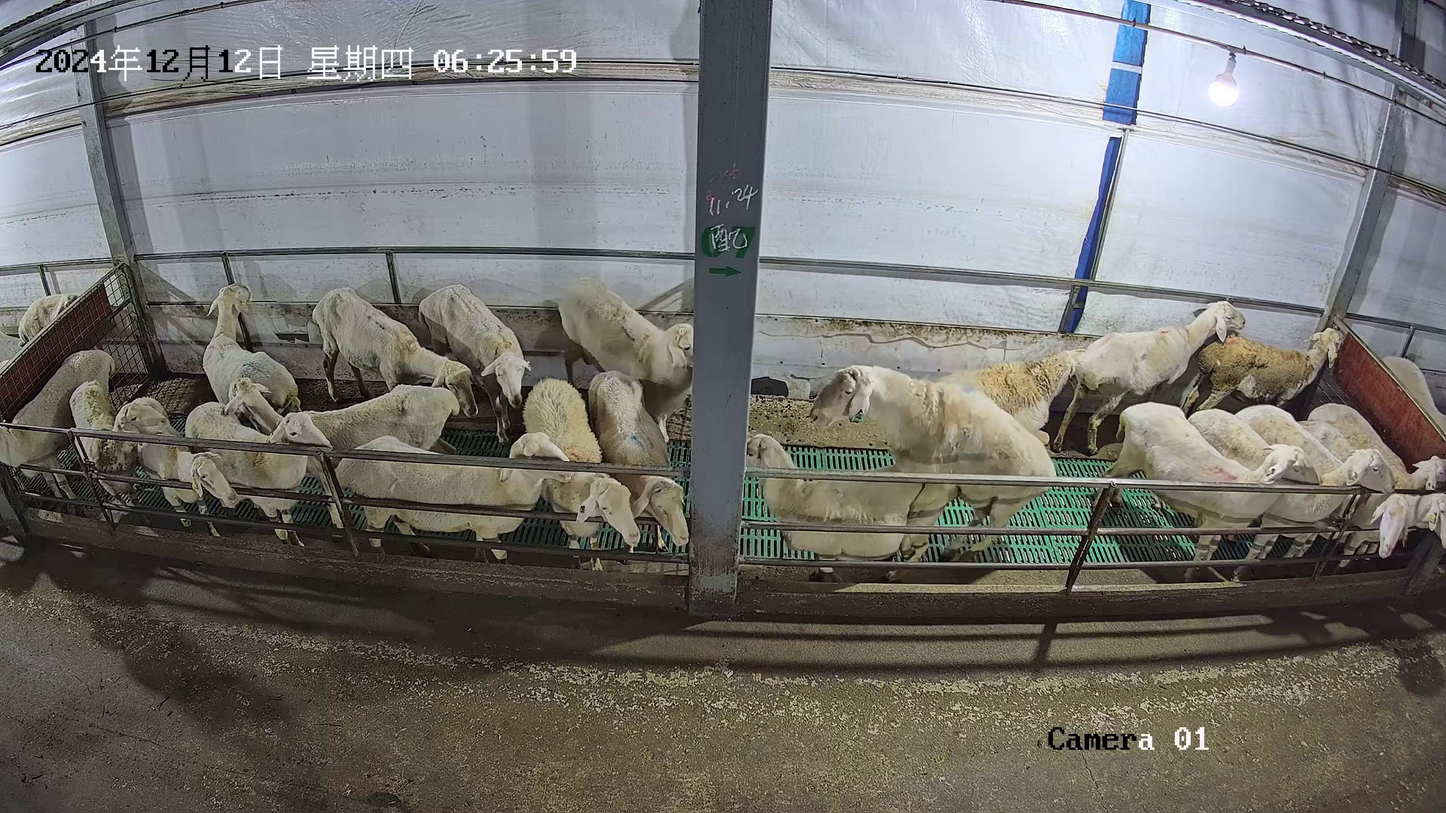Smounting: (740, 363, 1058, 585)
mounted: (744, 431, 960, 582)
